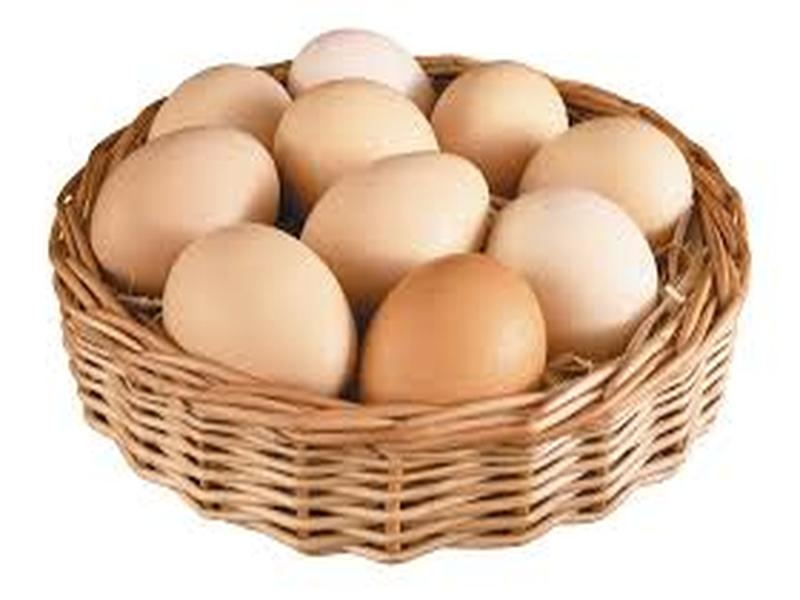egg: (95, 5, 775, 488)
